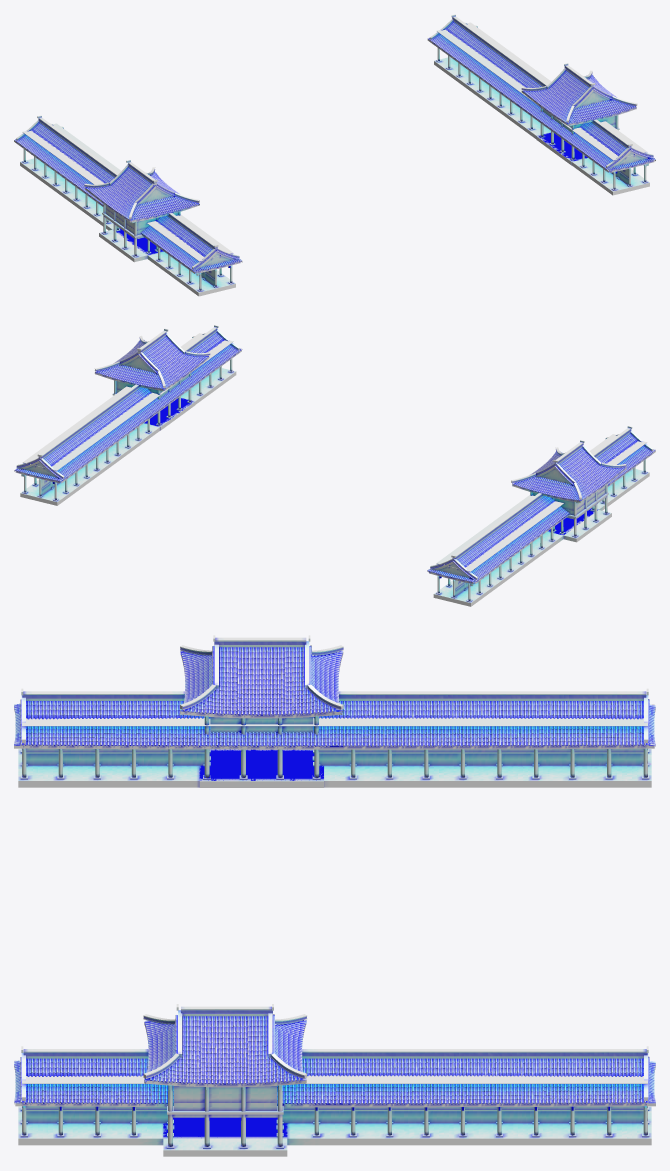
The model's file is NMJ_GJJ_Hoerang.fbx.
3 views of the same model, one above another, from view 1: azimuth 30°, elevation 25°; view 2: azimuth 150°, elevation 25°; view 3: azimuth 270°, elevation 25° (orthographic). The views are drawn at different scales.
Parts seen in each view (by area): view 1: 근정전행각_수키와, 근정전행각_암키와, 근정전행각_석축돌, 근정전행각_녹청, 근정전행각_붉은칠, 근정전행각_양성, 근정전행각_판벽, 근정전행각_초석, 근정전행각_판문; view 2: 근정전행각_수키와, 근정전행각_암키와, 근정전행각_석축돌, 근정전행각_녹청, 근정전행각_붉은칠, 근정전행각_양성, 근정전행각_판벽, 근정전행각_초석, 근정전행각_판문; view 3: 근정전행각_수키와, 근정전행각_암키와, 근정전행각_석축돌, 근정전행각_녹청, 근정전행각_꽃담, 근정전행각_붉은칠, 근정전행각_판벽, 근정전행각_양성, 근정전행각_판문, 근정전행각_초석, 근정전행각_창방단청.
Part boxes in pixels (box(x1,y1,x2,y2)): 근정전행각_수키와: box(15, 14, 654, 272); 근정전행각_암키와: box(14, 17, 655, 272); 근정전행각_석축돌: box(20, 57, 649, 296); 근정전행각_녹청: box(14, 22, 655, 273); 근정전행각_붉은칠: box(23, 48, 646, 290); 근정전행각_양성: box(16, 20, 653, 269); 근정전행각_판벽: box(105, 91, 646, 278); 근정전행각_초석: box(22, 60, 647, 291); 근정전행각_판문: box(105, 109, 624, 272); 근정전행각_수키와: box(14, 325, 654, 582); 근정전행각_암키와: box(14, 329, 655, 582); 근정전행각_석축돌: box(20, 368, 649, 606); 근정전행각_녹청: box(14, 333, 655, 583); 근정전행각_붉은칠: box(24, 356, 645, 600); 근정전행각_양성: box(17, 330, 653, 579); 근정전행각_판벽: box(24, 357, 605, 589); 근정전행각_초석: box(22, 370, 647, 602); 근정전행각_판문: box(45, 374, 605, 583); 근정전행각_수키와: box(14, 635, 655, 1104); 근정전행각_암키와: box(14, 641, 655, 1103); 근정전행각_석축돌: box(18, 749, 651, 1156); 근정전행각_녹청: box(14, 646, 655, 1114); 근정전행각_꽃담: box(26, 753, 643, 1123); 근정전행각_붉은칠: box(22, 651, 647, 1146); 근정전행각_판벽: box(26, 749, 643, 1110); 근정전행각_양성: box(22, 645, 647, 1100); 근정전행각_판문: box(173, 717, 313, 1102); 근정전행각_초석: box(20, 748, 649, 1148); 근정전행각_창방단청: box(23, 716, 646, 1117).
Size of the model in its own units: 84.21 by 11.78 by 53.1.
